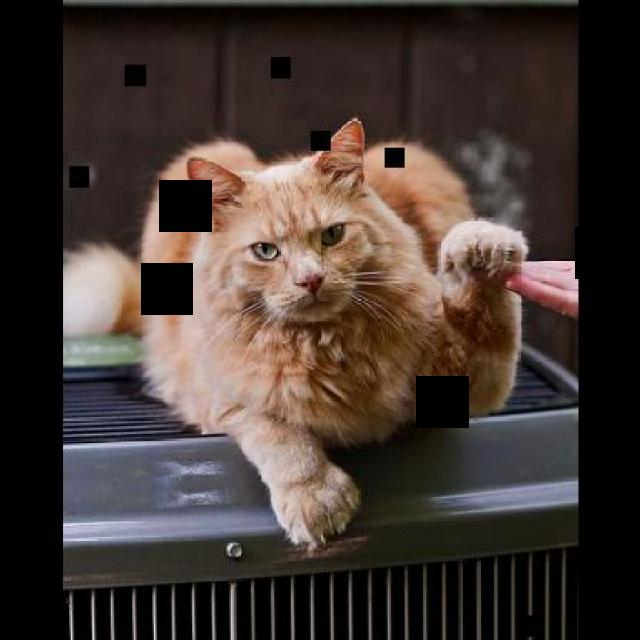unauthorized: (63, 115, 528, 551)
